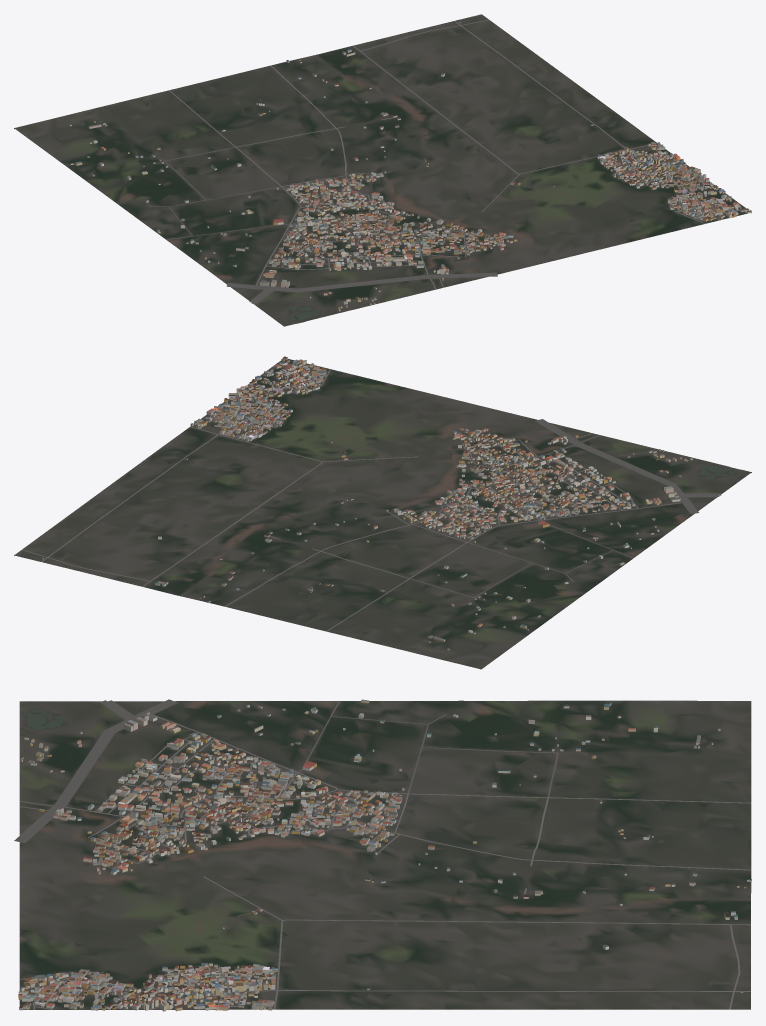
3 views of the same model, one above another, from view 1: azimuth 30°, elevation 25°; view 2: azimuth 150°, elevation 25°; view 3: azimuth 270°, elevation 25° (orthographic). The views are drawn at different scales.
Visible parts, largest first — view 1: ground, buildings, roads; view 2: ground, buildings, roads; view 3: ground, buildings, roads, water.
Boxes of the visible parts, x1,y1,x2,y2 form: ground: (14, 14, 751, 326); buildings: (69, 21, 751, 311); roads: (147, 20, 746, 304); ground: (14, 359, 751, 669); buildings: (42, 356, 692, 650); roads: (22, 361, 721, 631); ground: (19, 700, 751, 1009); buildings: (18, 699, 751, 1011); roads: (14, 699, 751, 1009); water: (20, 708, 65, 730).
Bounding box in the file's own units: 1415 × 20.56 × 1414.
